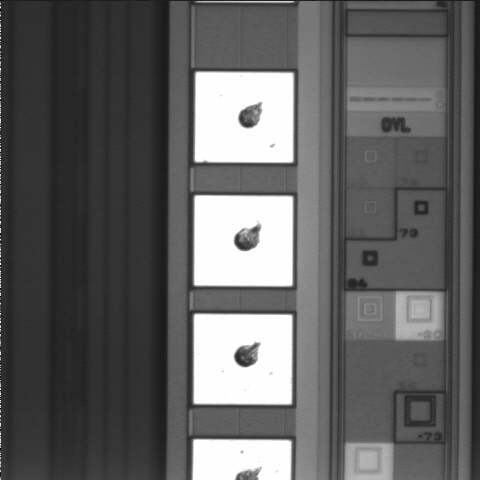pad: (195, 72, 293, 163), (194, 196, 293, 286), (194, 314, 292, 404)
